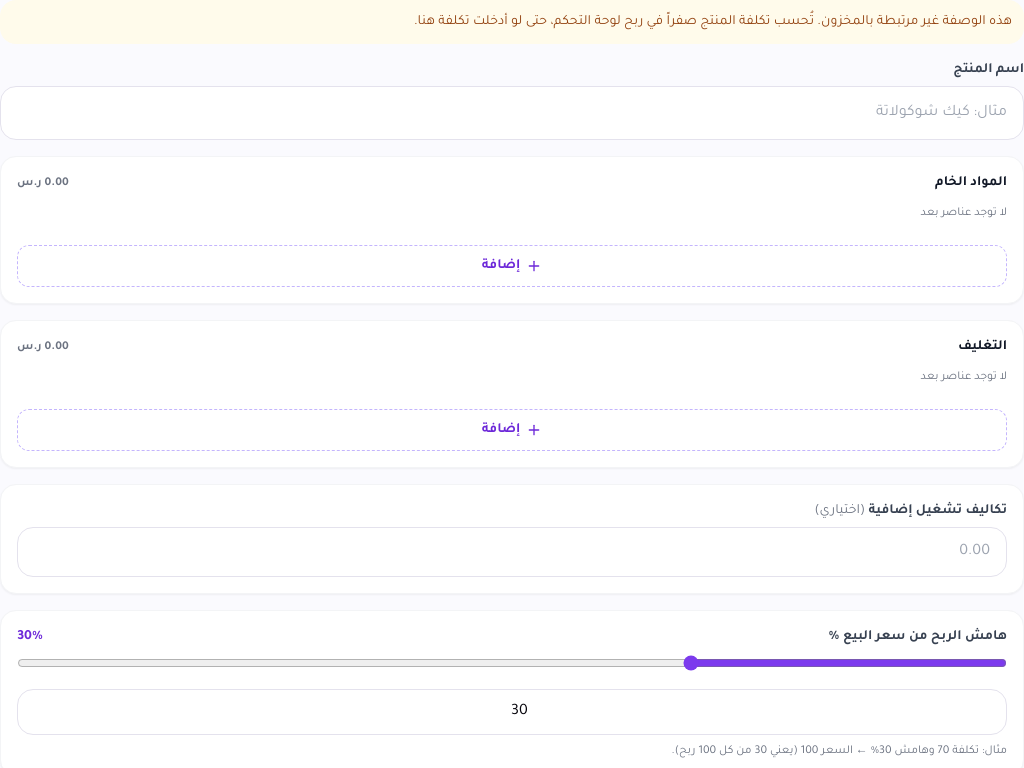
product margin controls › keeps the slider and numeric field consistent at the upper boundary
The image size is (1024, 768).
Expected: the text "تُحسب تكلفة المنتج صفراً" is shown, [414,15,1012,29]
In the number field labelled "تكاليف تشغيل إضافية (اختياري)": (512, 552) [17,527,1007,577], type "70"
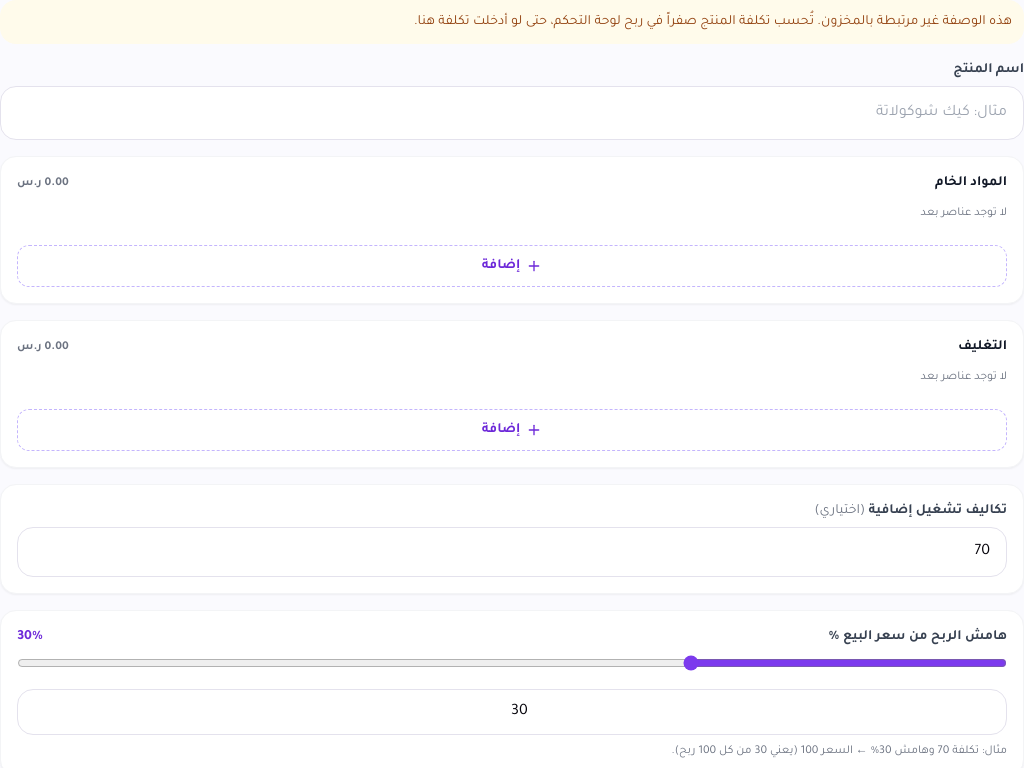
Replace the text in the number field named "نسبة الربح بالنسبة المئوية" with "100": (512, 712) [17,689,1007,735]
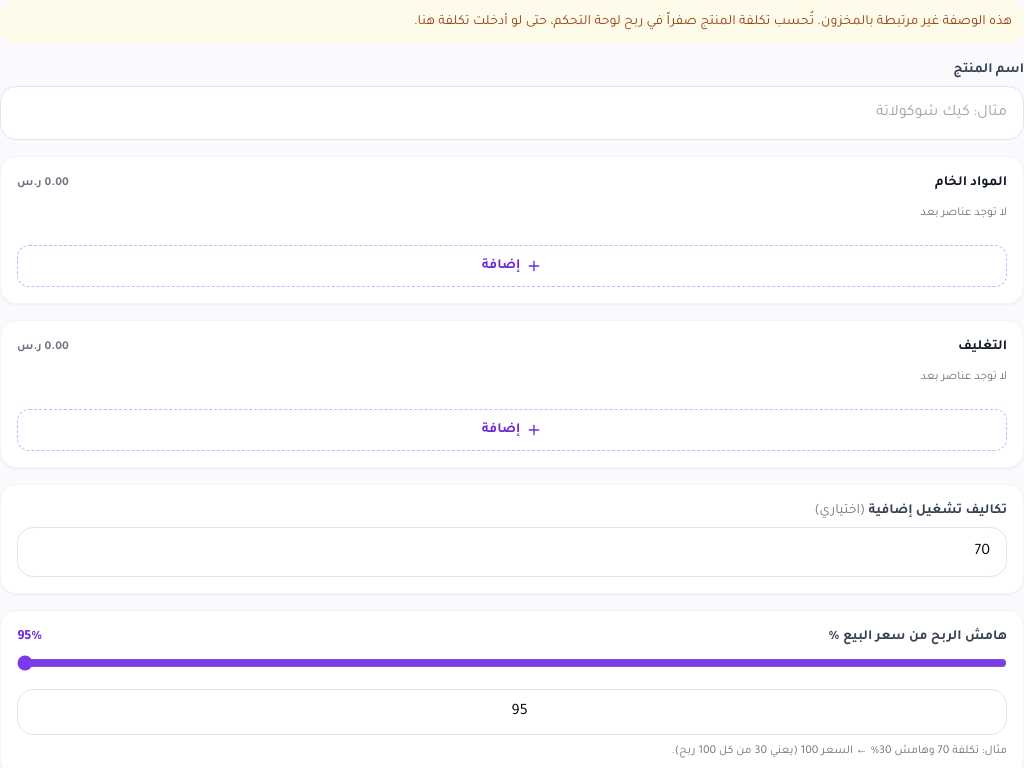
Expected: the number field named "نسبة الربح بالنسبة المئوية" holds "95", [17,689,1007,735]
Expected: the slider holds "95"
Set the slider to "30": (333, 663) [17,655,1007,671]
(page scrolled)
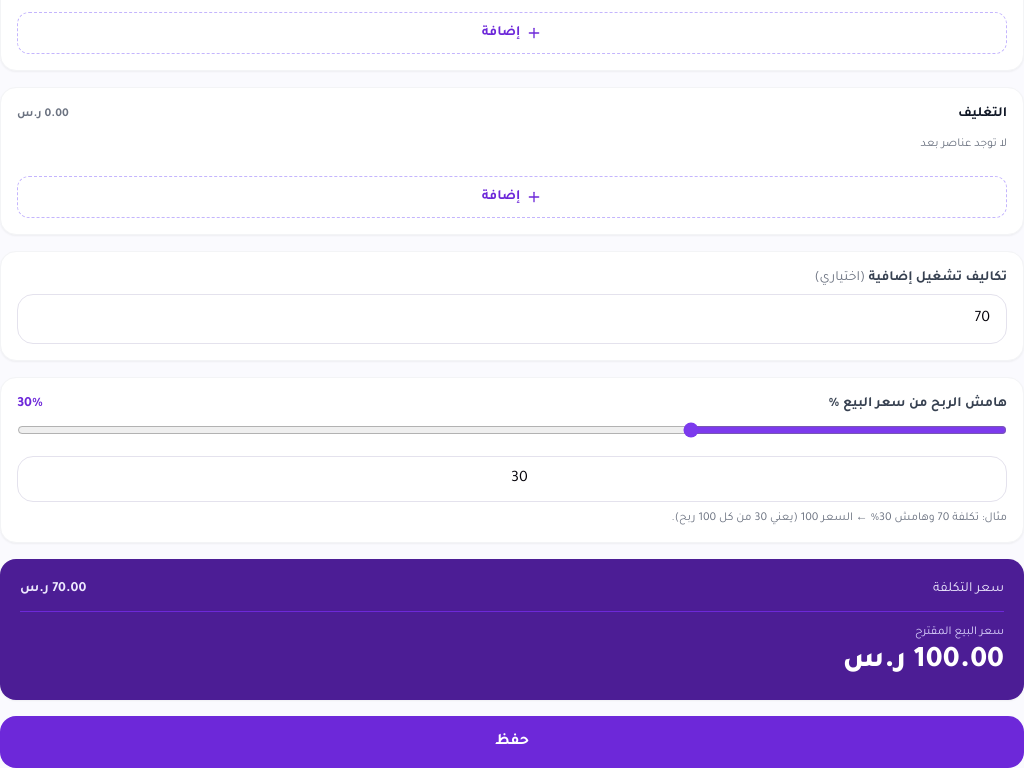
Expected: the number field named "نسبة الربح بالنسبة المئوية" holds "30", [17,456,1007,502]
Expected: the text "100.00 ر.س" is shown, [843,647,1004,677]
